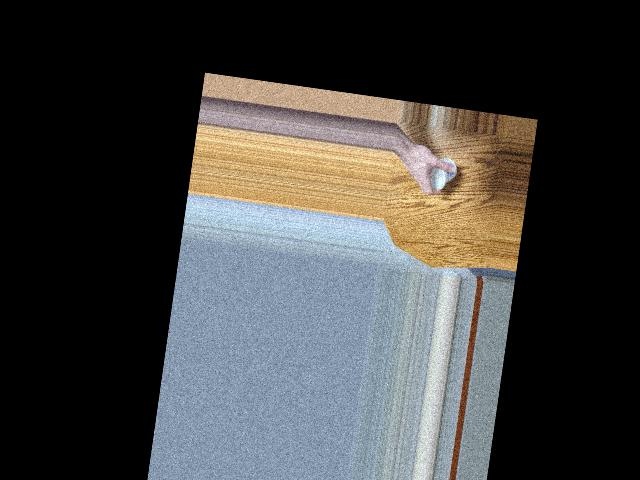cotage: (428, 154, 459, 198)
